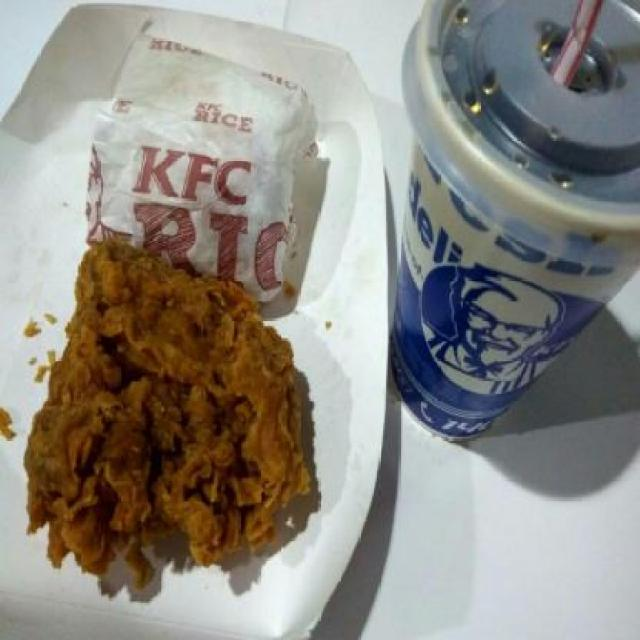Chicken -Fried Chicken-: (14, 232, 315, 590)
